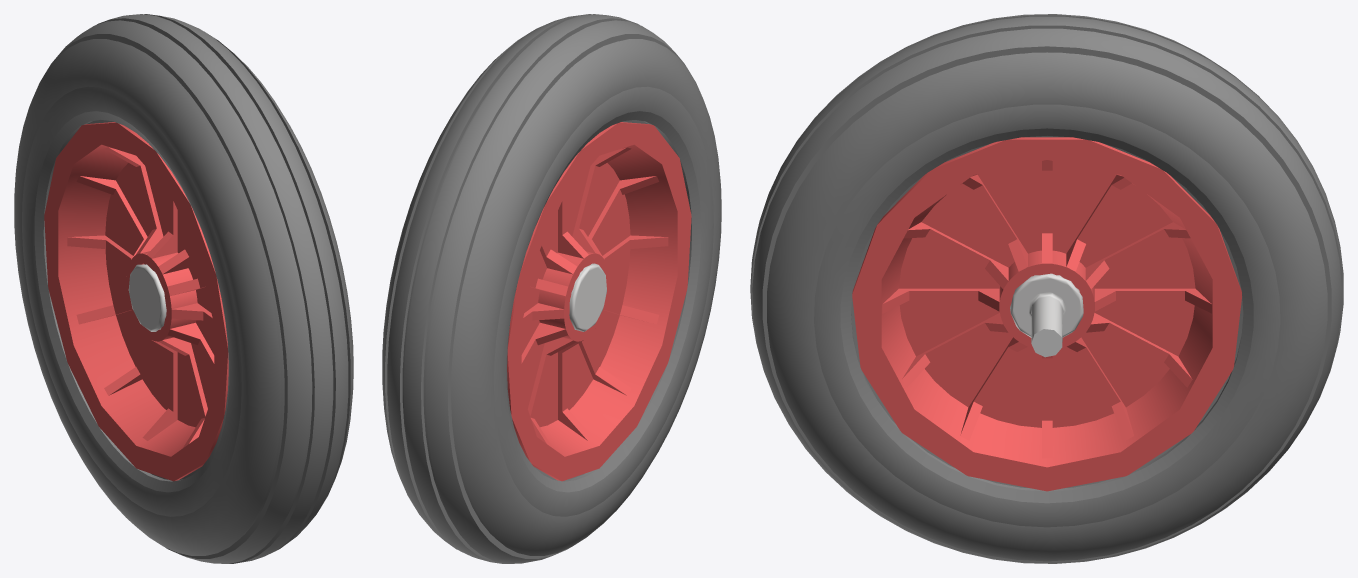
Rendered from wheel.dae.
3 renders of one model, left to right at view 1: azimuth 30°, elevation 25°; view 2: azimuth 150°, elevation 25°; view 3: azimuth 270°, elevation 25°, orthographic. The views are drawn at different scales.
Parts seen in each view (by area): view 1: Wheel.001; view 2: Wheel.001; view 3: Wheel.001.
Part boxes in pixels (x1,y1,x2,y2): Wheel.001: [14, 14, 353, 563]; Wheel.001: [382, 14, 721, 563]; Wheel.001: [750, 14, 1343, 563].
Size of the model in its own units: 0.6867 by 2.11 by 2.11.
